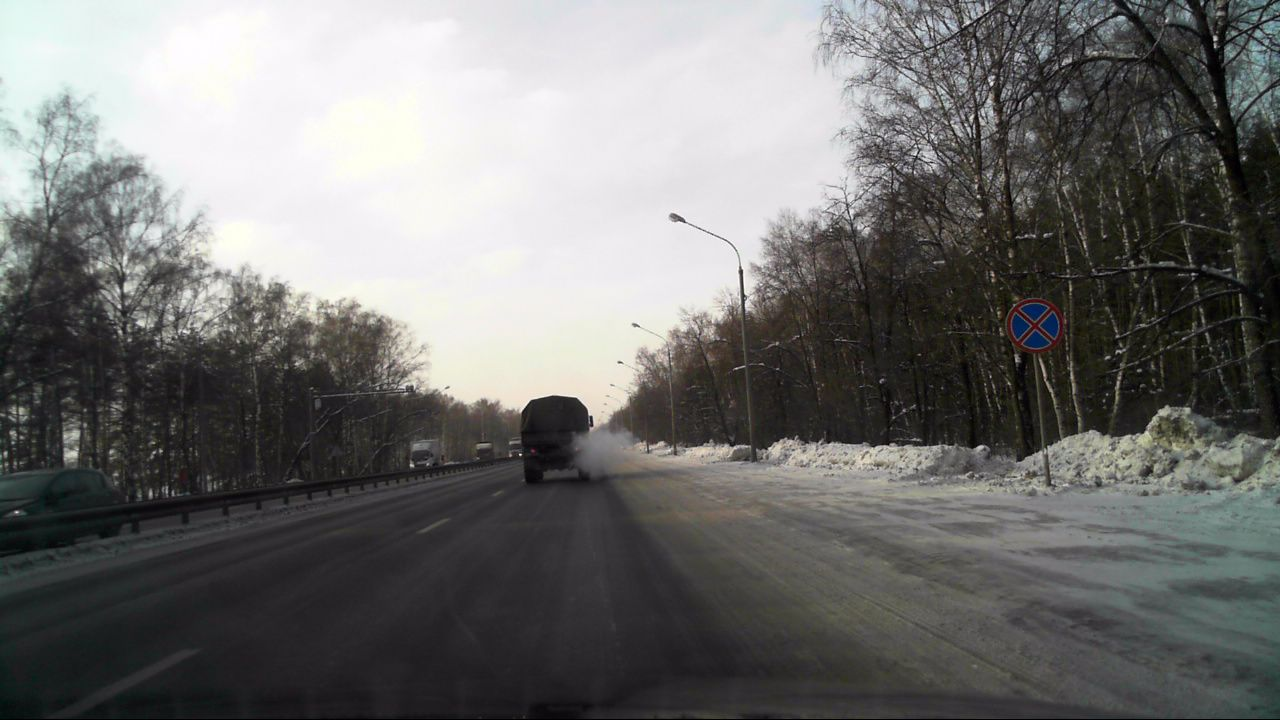No Parking: (1008, 297, 1060, 353)
